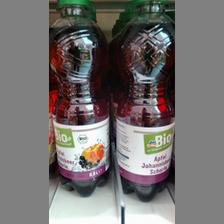Soda: (48, 0, 113, 196), (114, 0, 174, 202)
